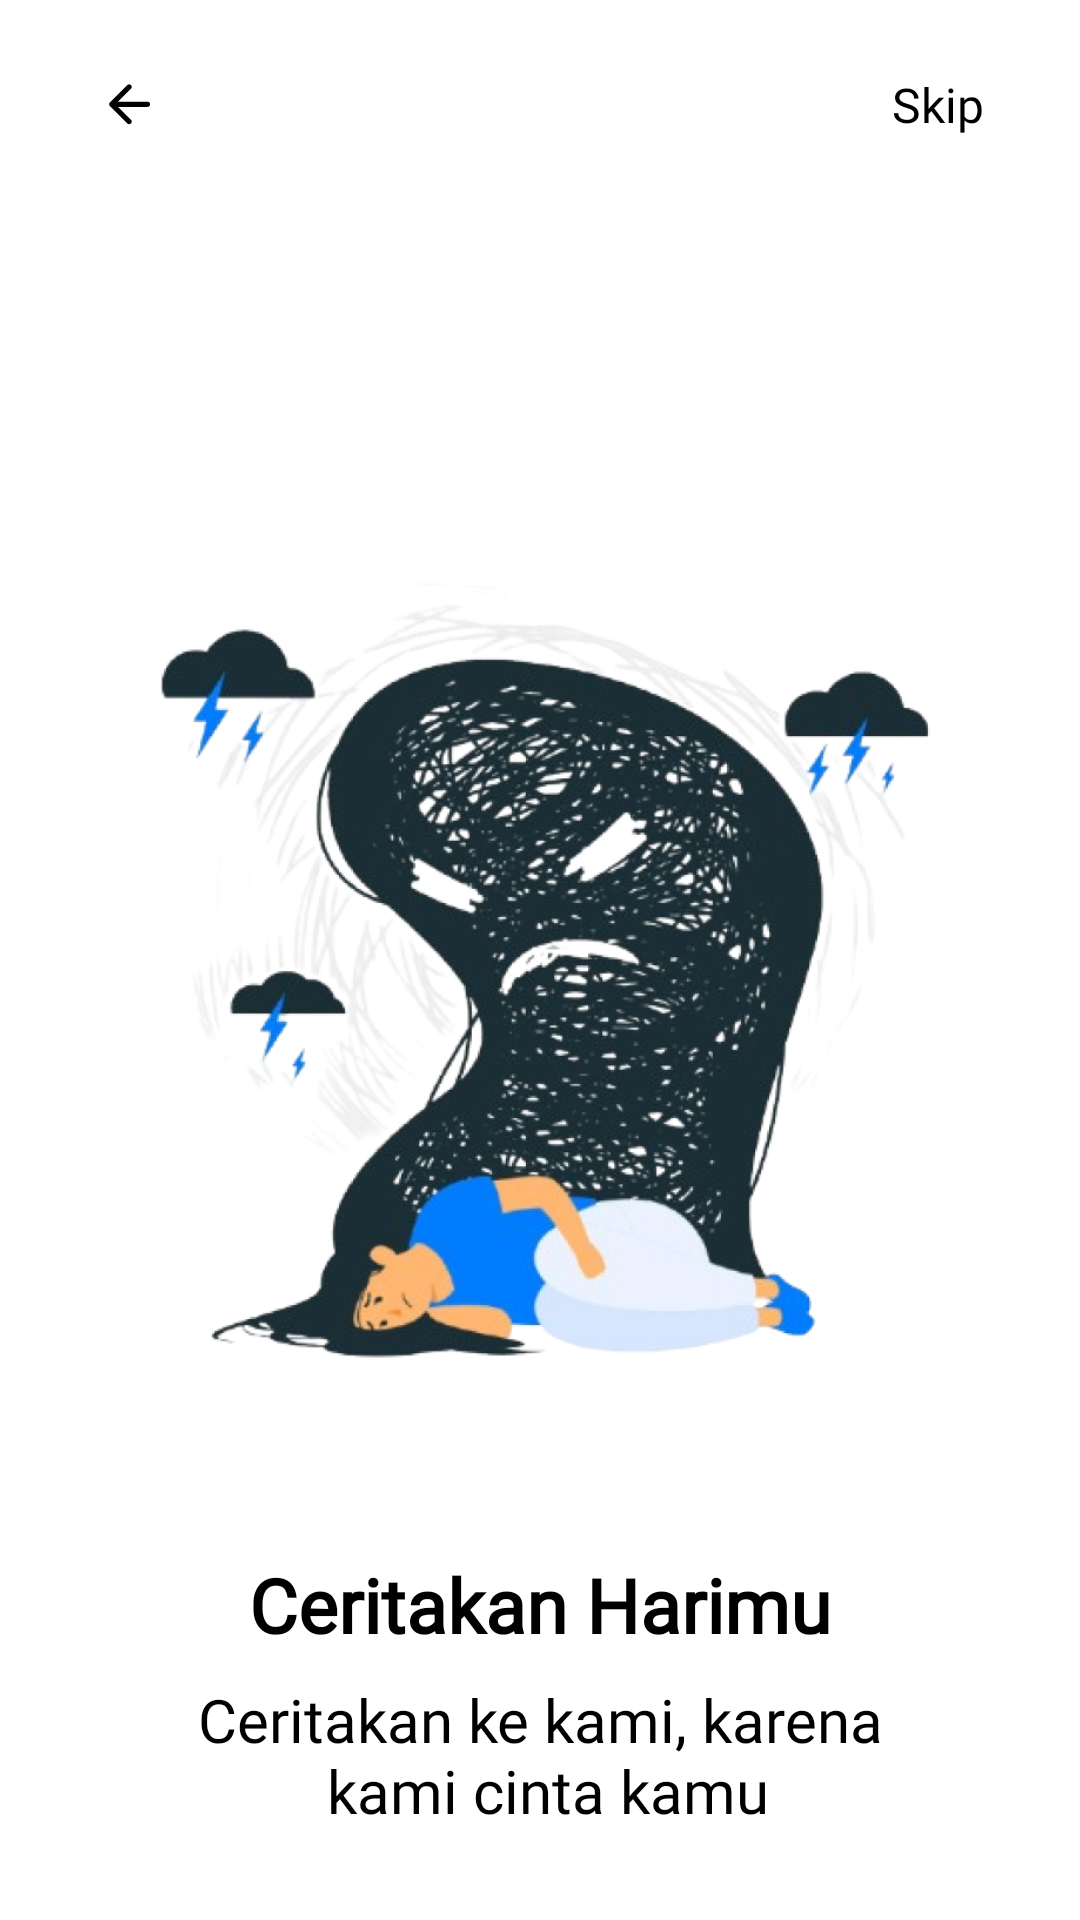

Where to tap for icons on this 1080*1920 app screen, as [x,y]:
back: [129,104]
